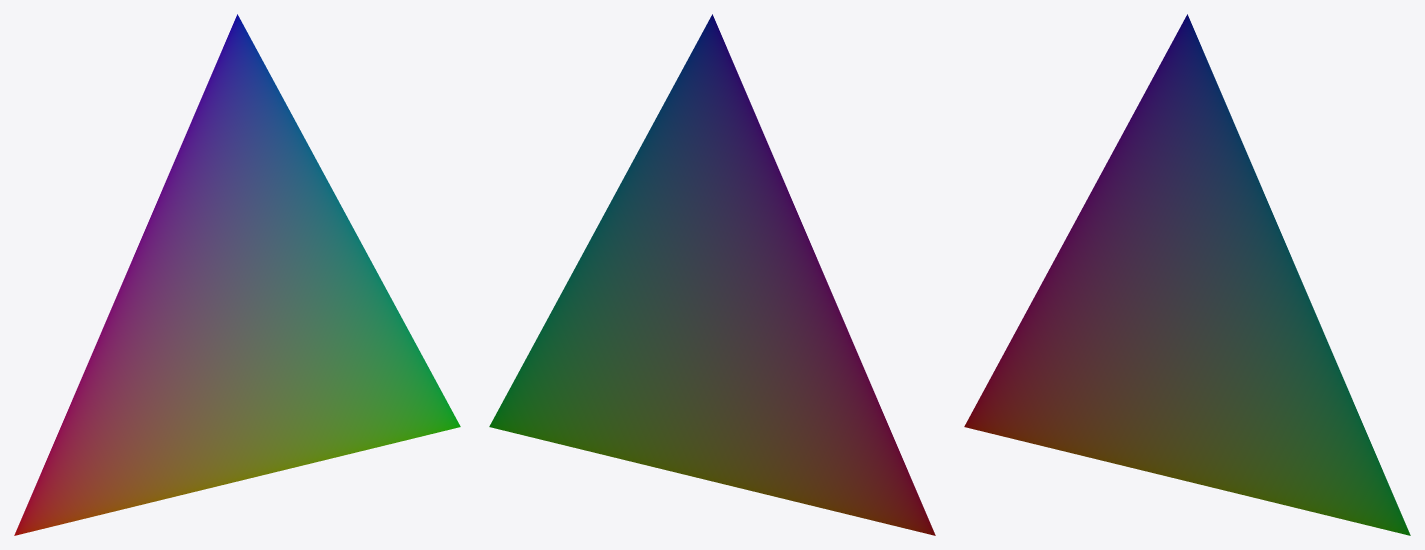
Rendered from DirectionalShadowCasterNodes.gltf.
3 views of the same model, side by side, from view 1: azimuth 30°, elevation 25°; view 2: azimuth 150°, elevation 25°; view 3: azimuth 330°, elevation 25° (orthographic).
Visible parts, largest first — view 1: Pane; view 2: Pane; view 3: Pane.
Boxes of the visible parts, <box> form: Pane: <box>14,14,460,535</box>; Pane: <box>489,14,935,535</box>; Pane: <box>964,14,1410,535</box>.
Bounding box in the file's own units: 1 × 1 × 0.
